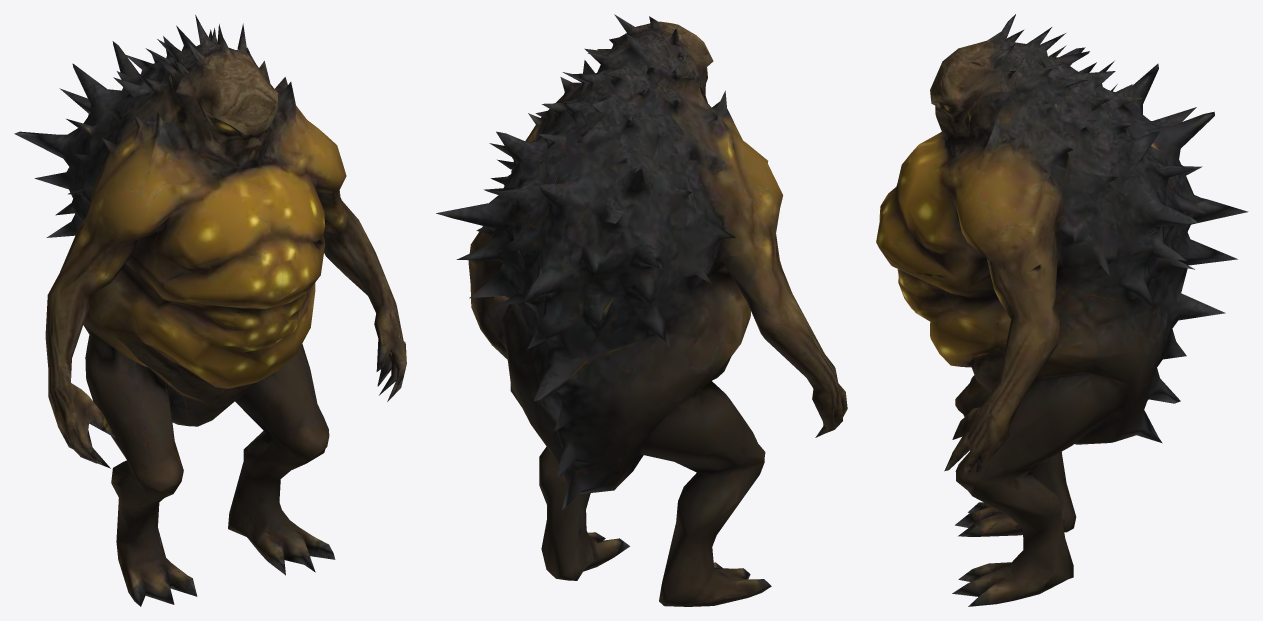
The model's file is alien-revientaesporas.glb.
3 renders of one model, left to right at view 1: azimuth 30°, elevation 25°; view 2: azimuth 150°, elevation 25°; view 3: azimuth 270°, elevation 25°, orthographic. The views are drawn at different scales.
Bounding box in the file's own units: 1.27 × 1.89 × 1.19.
1 material, 1 textured.
